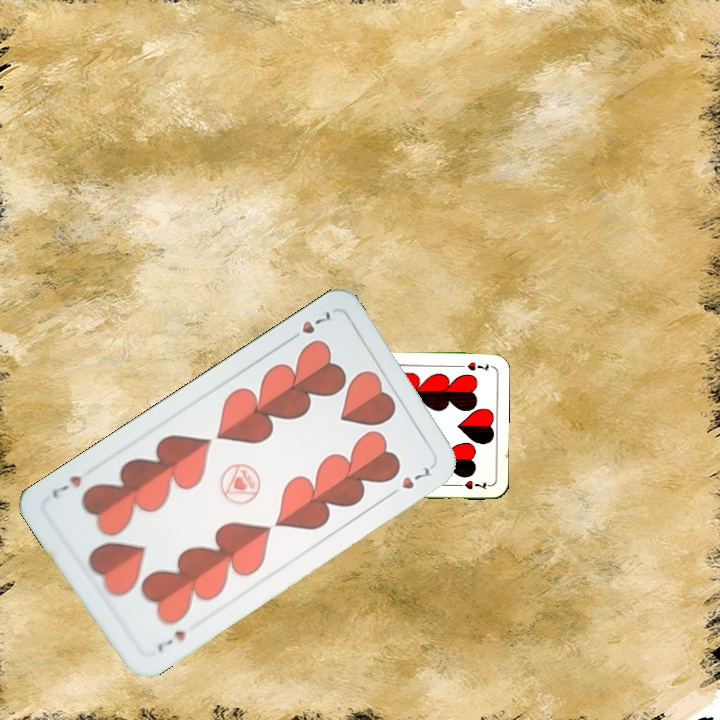H7: (283, 306, 336, 345), (153, 626, 189, 655), (453, 358, 491, 374)
